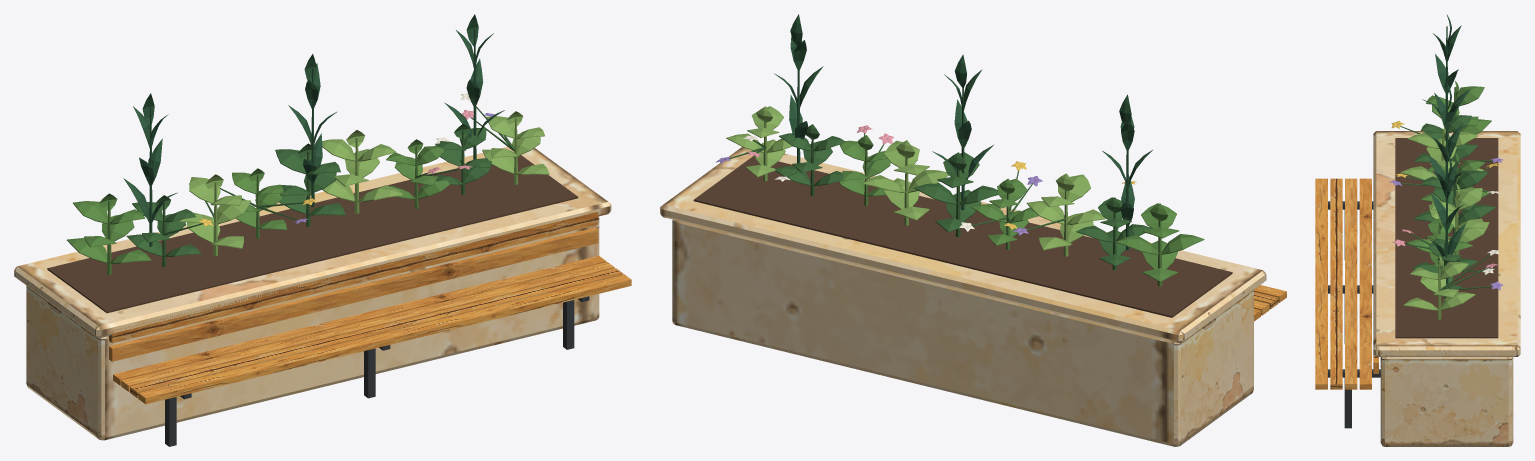
3 views of the same model, side by side, from view 1: azimuth 30°, elevation 25°; view 2: azimuth 150°, elevation 25°; view 3: azimuth 270°, elevation 25° (orthographic). The views are drawn at different scales.
Visible parts, largest first — view 1: house_paint, seaside_stone, seaside_timber; view 2: seaside_stone, house_paint, seaside_timber; view 3: house_paint, seaside_stone, seaside_timber.
Boxes of the visible parts, x1,y1,x2,y2 form: house_paint: [47, 14, 589, 446]; seaside_stone: [14, 146, 611, 440]; seaside_timber: [109, 212, 631, 404]; seaside_stone: [660, 147, 1266, 446]; house_paint: [693, 14, 1232, 317]; seaside_timber: [1254, 285, 1286, 321]; house_paint: [1328, 14, 1503, 428]; seaside_stone: [1373, 131, 1520, 446]; seaside_timber: [1315, 178, 1378, 389].
Bounding box in the file's own units: 3.5 × 1.95 × 1.39.
3 materials, 3 textured.
